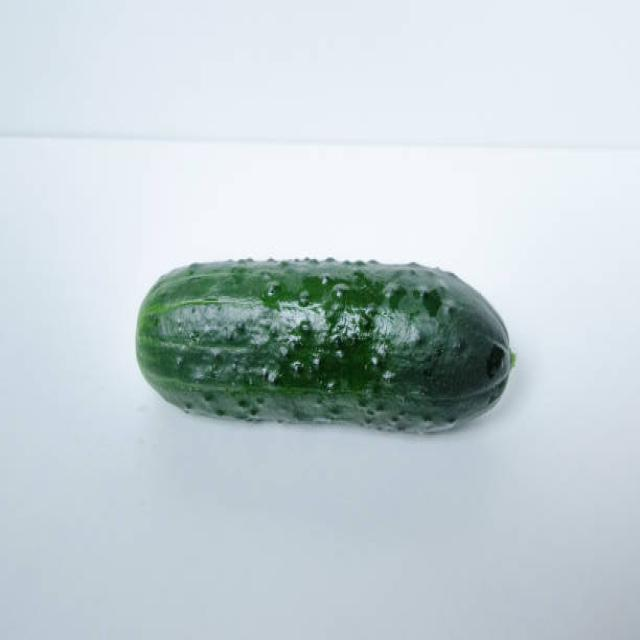cucumber: (136, 257, 510, 439)
